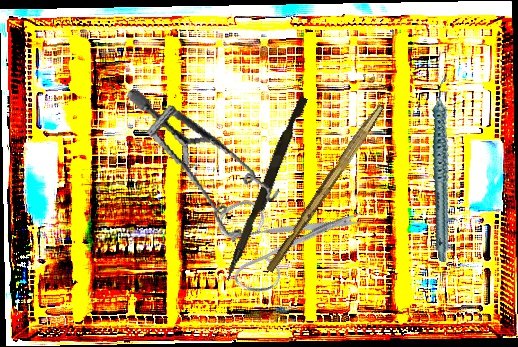Handpiece: (398, 74, 488, 263)
Iris Scissors: (193, 145, 369, 323)
Pusher: (223, 94, 309, 284)
Scalpel Handle: (264, 100, 386, 276)
Speculum: (126, 63, 288, 258)
